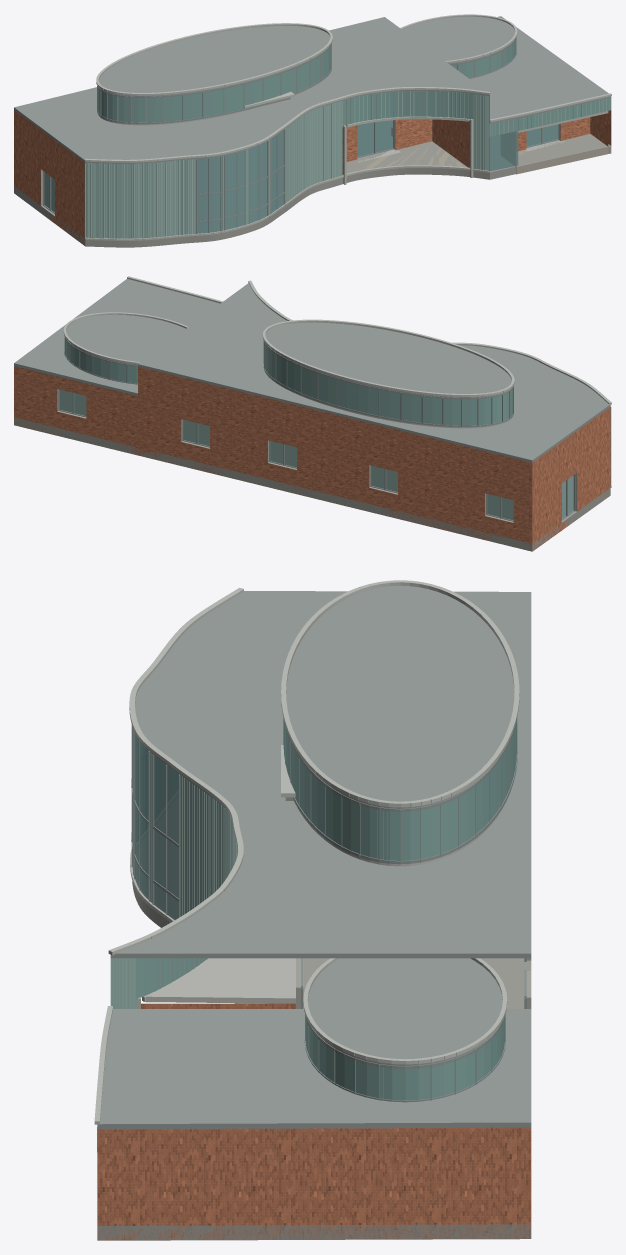
3 renders of one model, top to bottom at view 1: azimuth 30°, elevation 25°; view 2: azimuth 150°, elevation 25°; view 3: azimuth 270°, elevation 25°, orthographic. The views are drawn at different scales.
Parts seen in each view (by area): view 1: eagle-plaza__lowerWaveRoof, eagle-plaza__lowerCurvedGlass, eagle-plaza__foundation, eagle-plaza__upperOvalRoof, eagle-plaza__lowerFineVerticalFrames, eagle-plaza__rightLowPavilionRoof, eagle-plaza__upperOvalGlass, eagle-plaza__lowerCurvedDarkGlass, eagle-plaza__westBrickEnd, eagle-plaza__lowerUglassRibs, eagle-plaza__rearConnectorRoof, eagle-plaza__entryCurveHeadGlass (+25 smaller); view 2: eagle-plaza__estimatedRear, eagle-plaza__lowerWaveRoof, eagle-plaza__upperOvalRoof, eagle-plaza__upperOvalGlass, eagle-plaza__westBrickEnd, eagle-plaza__estimatedRightRear, eagle-plaza__rightLowPavilionRoof, eagle-plaza__foundation, eagle-plaza__rearConnectorRoof, eagle-plaza__estimatedRearGlass, eagle-plaza__upperOvalGlassFrames, eagle-plaza__upperOvalCoping (+8 smaller); view 3: eagle-plaza__lowerWaveRoof, eagle-plaza__eastBrickEnd, eagle-plaza__upperOvalRoof, eagle-plaza__rightLowPavilionRoof, eagle-plaza__rearConnectorRoof, eagle-plaza__upperOvalGlass, eagle-plaza__foundation, eagle-plaza__lowerCurvedGlass, eagle-plaza__rearConnectorCurvedGlass, eagle-plaza__lowerCurvedDarkGlass, eagle-plaza__mainPorchSoffit, eagle-plaza__upperOvalCoping (+9 smaller).
Part boxes in pixels (box(x1,y1,x2,y2)): eagle-plaza__lowerWaveRoof: box(14, 17, 489, 163); eagle-plaza__lowerCurvedGlass: box(85, 94, 489, 238); eagle-plaza__foundation: box(14, 119, 611, 247); eagle-plaza__upperOvalRoof: box(99, 26, 330, 96); eagle-plaza__lowerFineVerticalFrames: box(84, 94, 487, 238); eagle-plaza__rightLowPavilionRoof: box(470, 16, 611, 123); eagle-plaza__upperOvalGlass: box(97, 46, 330, 122); eagle-plaza__lowerCurvedDarkGlass: box(197, 130, 283, 233); eagle-plaza__westBrickEnd: box(14, 110, 85, 245); eagle-plaza__lowerUglassRibs: box(86, 94, 488, 238); eagle-plaza__rearConnectorRoof: box(402, 16, 514, 63); eagle-plaza__entryCurveHeadGlass: box(343, 91, 472, 125); eagle-plaza__estimatedRear: box(138, 366, 532, 550); eagle-plaza__lowerWaveRoof: box(138, 283, 610, 462); eagle-plaza__upperOvalRoof: box(265, 322, 511, 397); eagle-plaza__upperOvalGlass: box(264, 343, 512, 425); eagle-plaza__westBrickEnd: box(532, 407, 610, 550); eagle-plaza__estimatedRightRear: box(14, 366, 137, 454); eagle-plaza__rightLowPavilionRoof: box(14, 279, 219, 395); eagle-plaza__foundation: box(14, 417, 610, 551); eagle-plaza__rearConnectorRoof: box(66, 314, 185, 365); eagle-plaza__estimatedRearGlass: box(183, 420, 513, 520); eagle-plaza__upperOvalGlassFrames: box(263, 340, 513, 427); eagle-plaza__upperOvalCoping: box(262, 319, 514, 396); eagle-plaza__lowerWaveRoof: box(110, 591, 531, 958); eagle-plaza__eastBrickEnd: box(97, 1127, 531, 1240); eagle-plaza__upperOvalRoof: box(286, 585, 514, 808); eagle-plaza__rightLowPavilionRoof: box(97, 1009, 531, 1129); eagle-plaza__rearConnectorRoof: box(308, 958, 502, 1065); eagle-plaza__upperOvalGlass: box(283, 719, 516, 860); eagle-plaza__foundation: box(97, 796, 531, 1240); eagle-plaza__lowerCurvedGlass: box(110, 752, 237, 1008); eagle-plaza__rearConnectorCurvedGlass: box(305, 1017, 504, 1100); eagle-plaza__lowerCurvedDarkGlass: box(132, 727, 178, 920); eagle-plaza__mainPorchSoffit: box(143, 958, 295, 1003); eagle-plaza__upperOvalCoping: box(281, 580, 519, 807).
Size of the model in its own units: 36.11 by 8.28 by 13.93.
14 materials, 1 textured.
